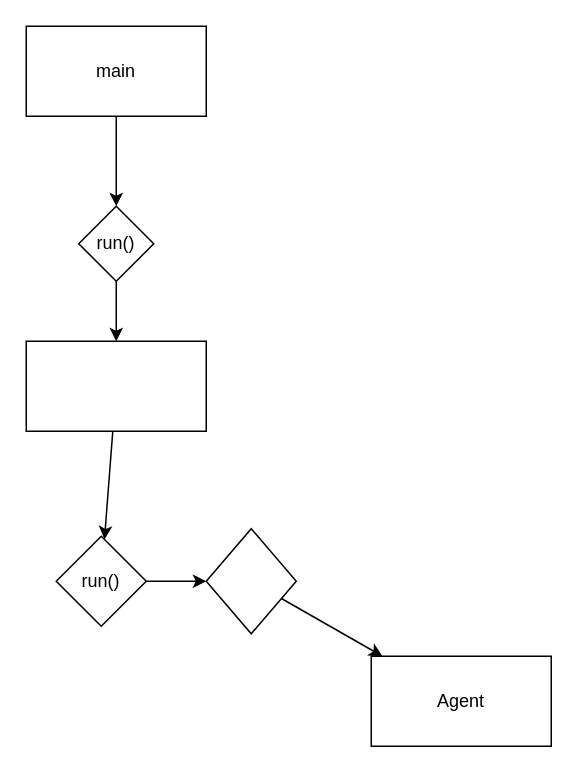
Some shapes in this 578 by 773 pixel diagram are drawn without their labels. The centre of each missing label's shape, as x and y in pixels:
"gameRunner" belongs at (115,385).
"initialize()" belongs at (250,580).
